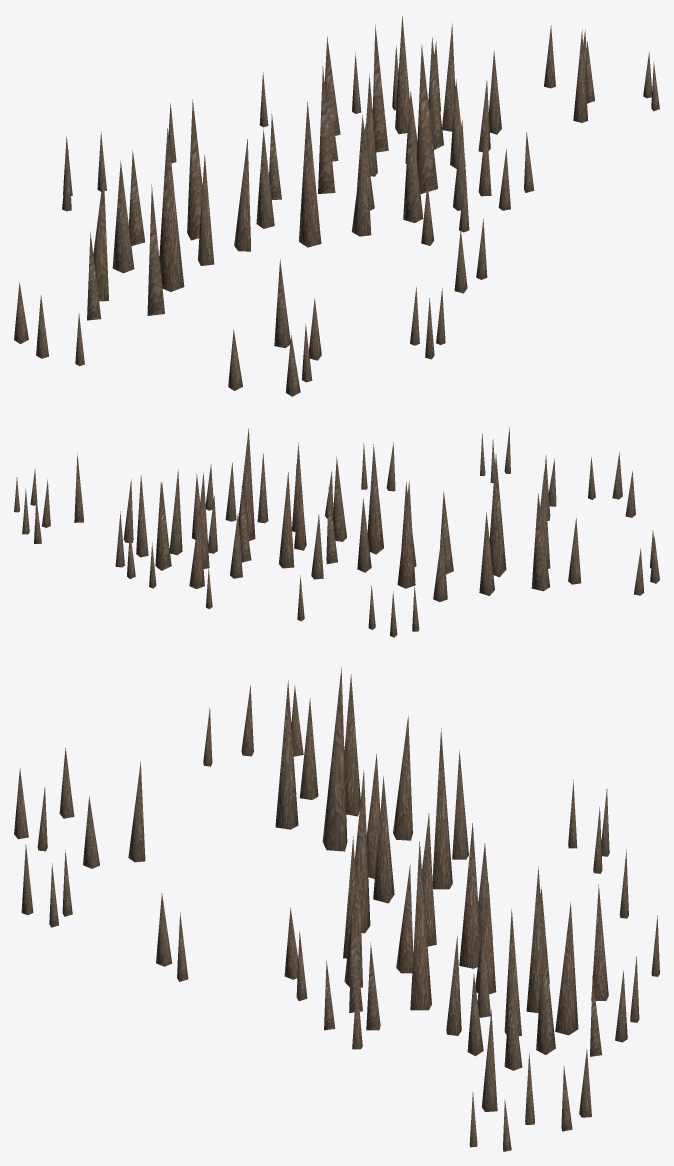
The model's file is area_12_7.FBX.
The picture shows the model from 3 angles, top to bottom: view 1: azimuth 30°, elevation 25°; view 2: azimuth 150°, elevation 25°; view 3: azimuth 270°, elevation 25°; orthographic projection. The views are drawn at different scales.
Parts seen in each view (by area): view 1: area_12_7; view 2: area_12_7; view 3: area_12_7.
Boxes of the visible parts, left/top/right/bottom form: area_12_7: left=14, top=16, right=659, bottom=396; area_12_7: left=14, top=427, right=659, bottom=637; area_12_7: left=14, top=667, right=659, bottom=1151.
Size of the model in its own units: 81.09 by 17.05 by 55.25.
